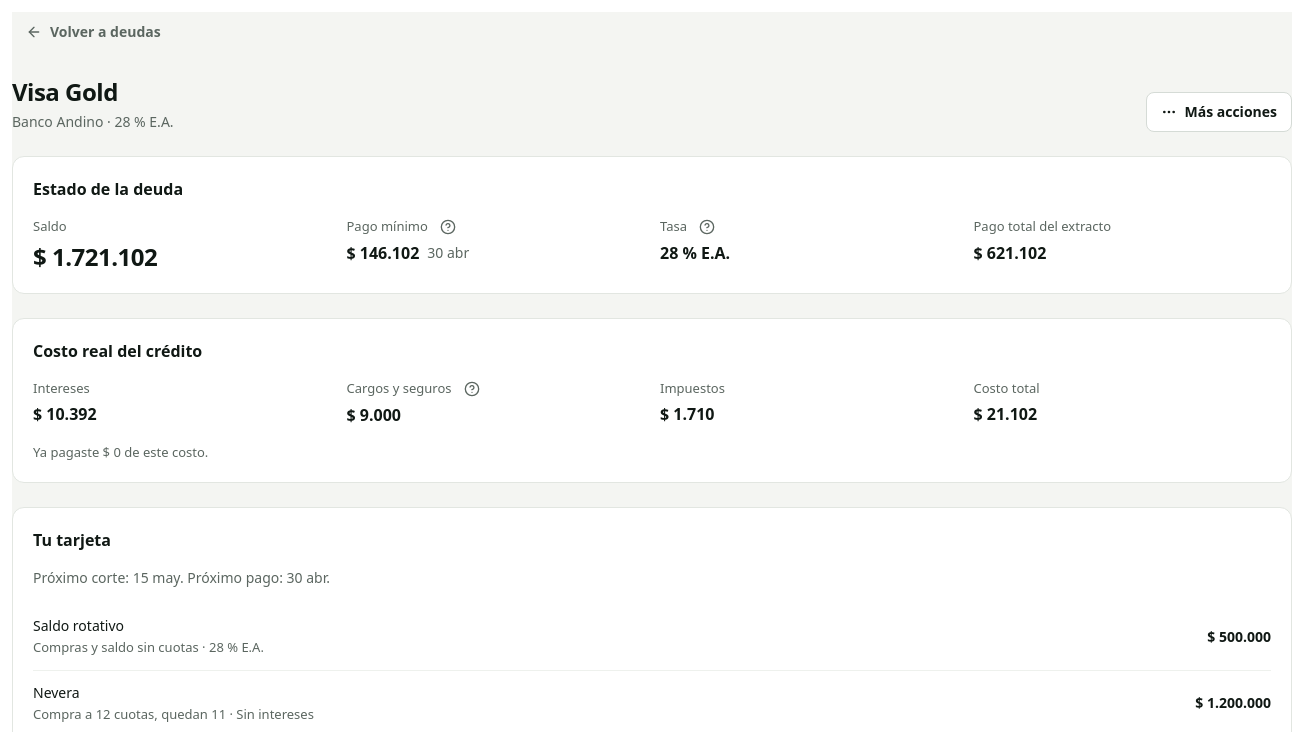
DebtDetail for a credit card › never offers "Reestructurar" in the Más acciones menu of a card
Click the button "Más acciones". click: (1219, 112)
box: 1146,92 -> 1292,132
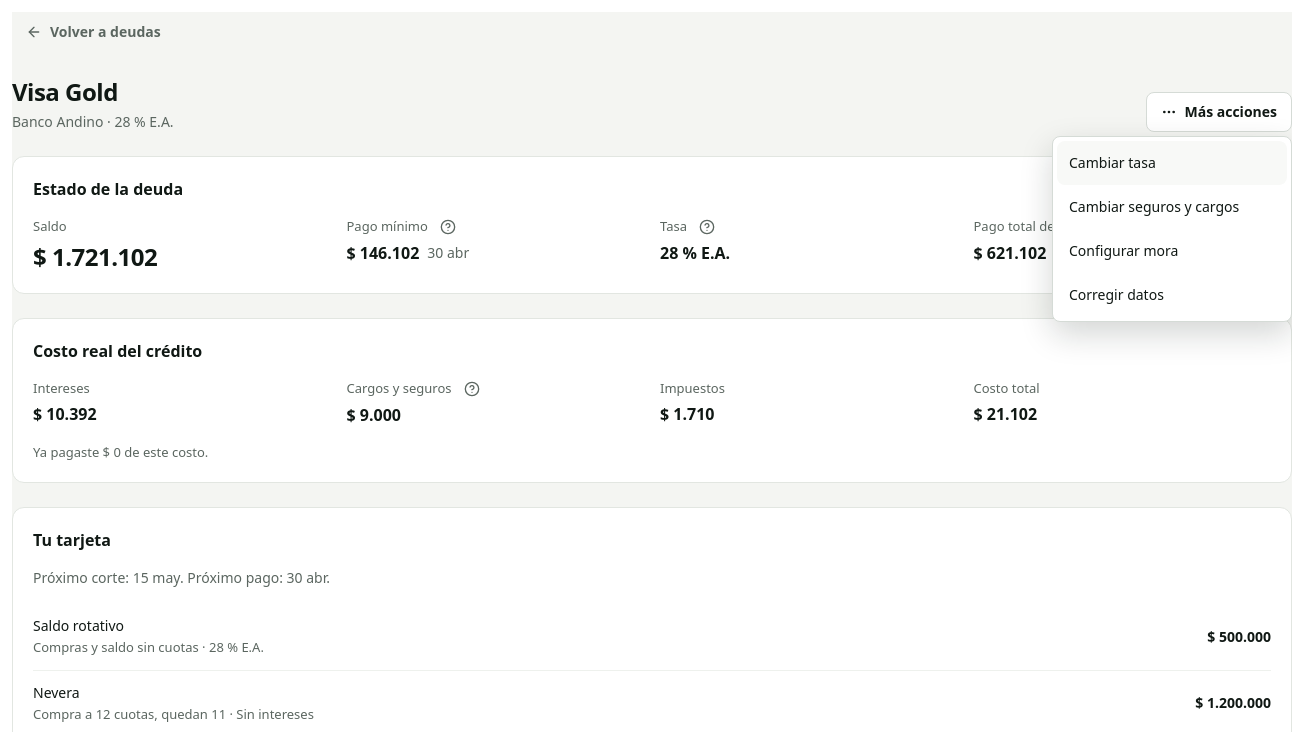
expect the menu items read "Cambiar tasa", "Cambiar seguros y cargos", "Configurar mora", "Corregir datos", in this order: met, box 1057,141 -> 1287,185; 1057,185 -> 1287,229; 1057,229 -> 1287,273; 1057,273 -> 1287,317
